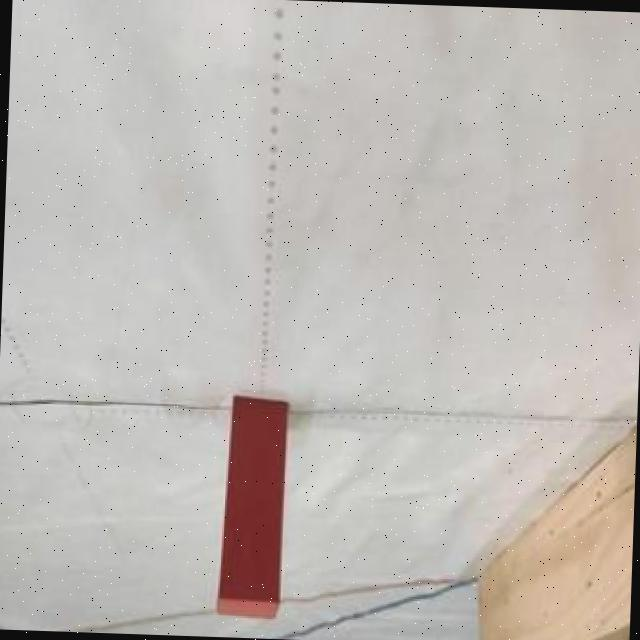redbox: (214, 392, 296, 620)
